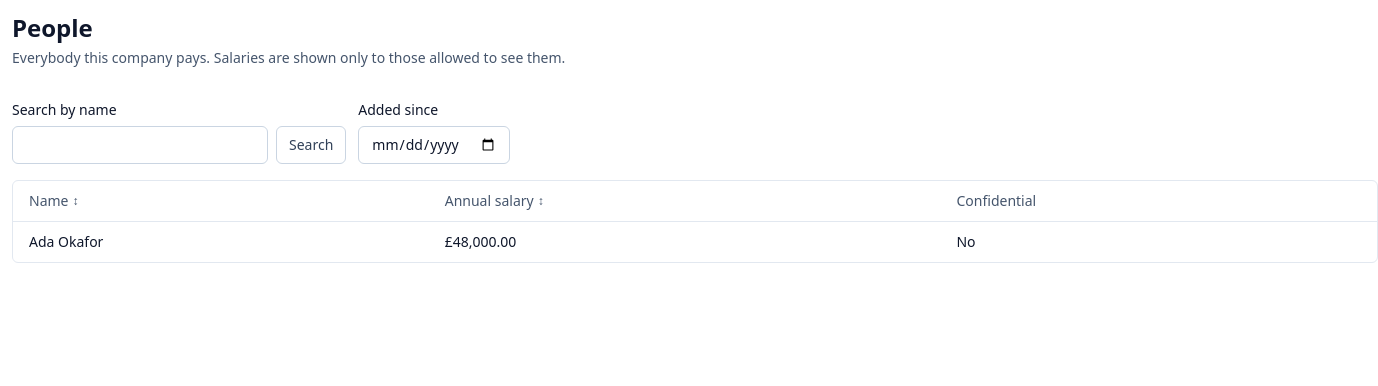
Test case: EmployeesPage › the three states › tells somebody their search matched nothing rather than that they have nobody
Expected: the text "Ada Okafor" is shown, [13,222,429,262]
In the search field labelled "Search by name": (140, 145) [12,126,268,164], type "nobody"
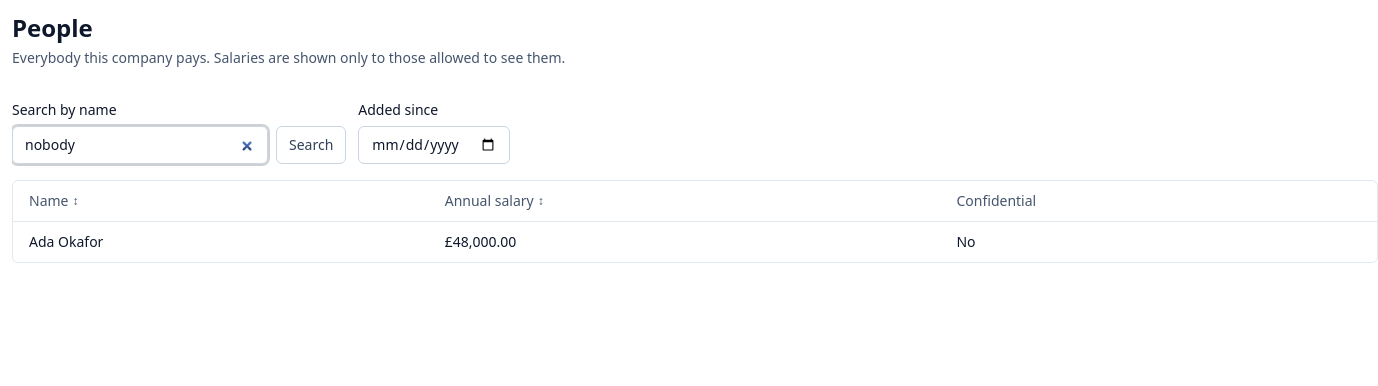
Click the button "Search": (311, 145) [276,126,346,164]
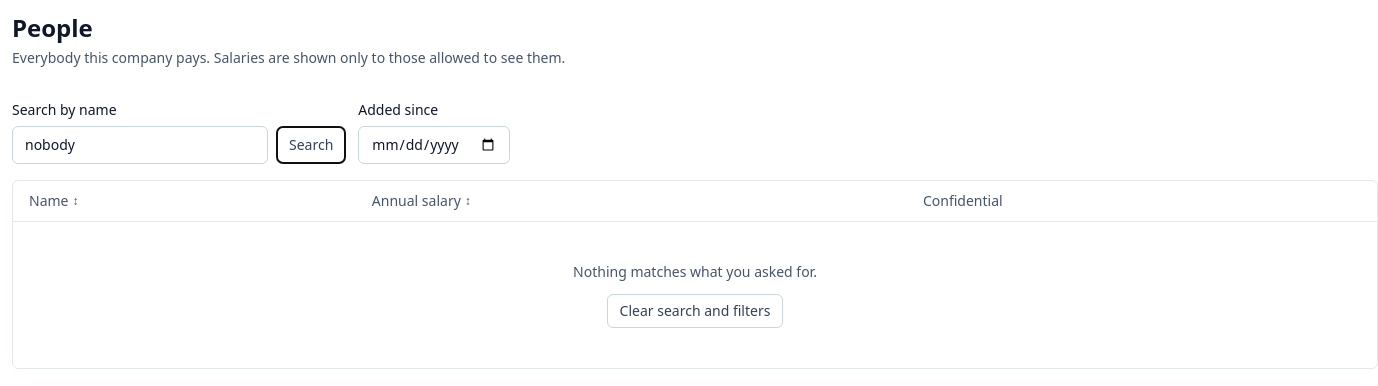
Expected: the text "Nothing matches what you asked for." is shown, [573,262,817,282]
Click the button "Clear search and filters": (695, 311) [607,294,783,328]
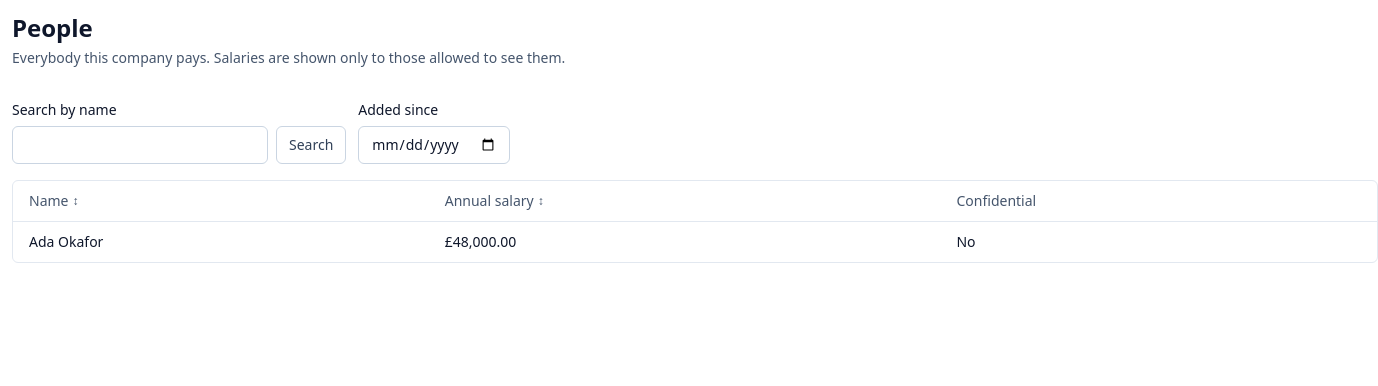
Expected: the text "Ada Okafor" is shown, [13,222,429,262]
